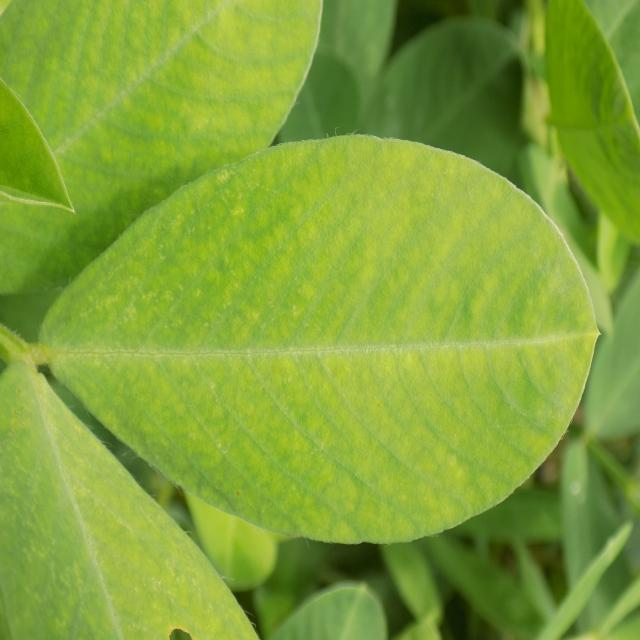Ground nut_healthy: (32, 140, 600, 540)
